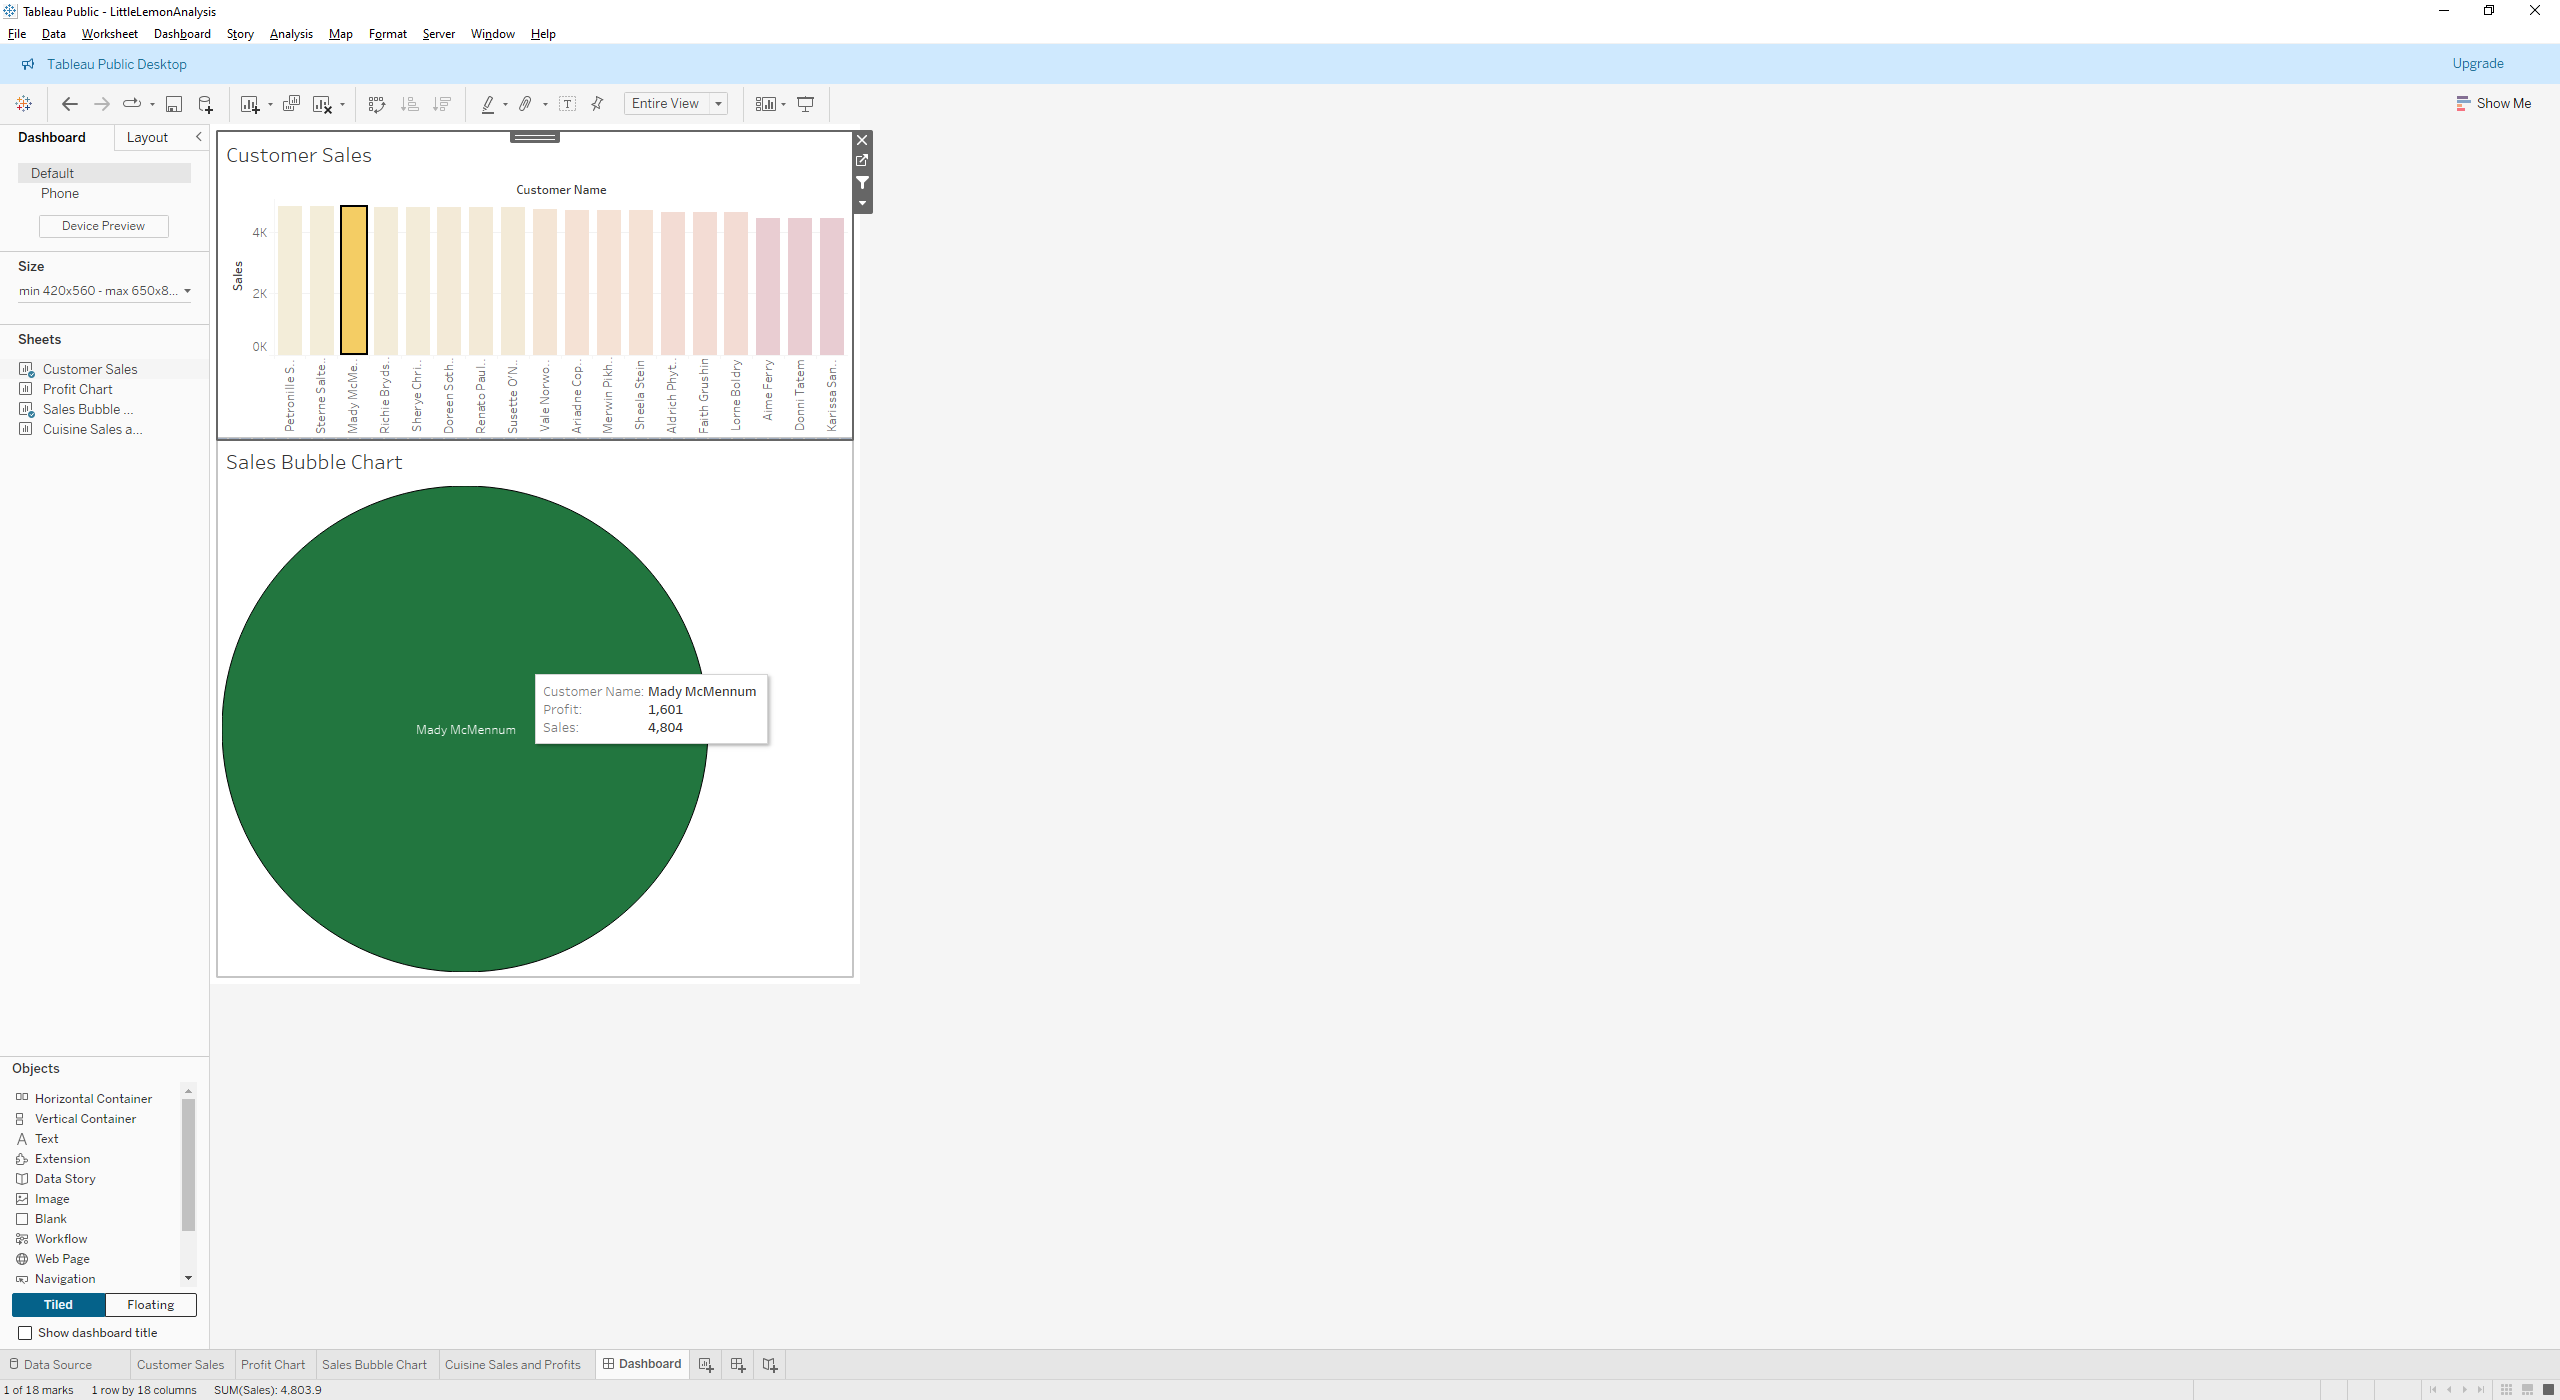

This screenshot's page, from the dashboard's own definition file:
{"tool":"tableau","page":{"name":"Dashboard","canvas":[650,860],"ordinal":0},"visuals":[{"type":"worksheet","title":"Customer Sales","mark":"Automatic","rows":["Sales"],"cols":["Customer Name"],"box":[8,8,634,307]},{"type":"worksheet","title":"Sales Bubble Chart","mark":"Circle","box":[8,315,634,537]}]}

Visuals, with their boxes on the page's 650x860 design canvas (x1, y1, x2, y2). These are canvas units, not pixel positions in the 2560x1400 screenshot, which may show the page scaled, cropped or inside an application window:
"Customer Sales" worksheet: crop(8, 8, 642, 315)
"Sales Bubble Chart" worksheet (Circle marks): crop(8, 315, 642, 852)
